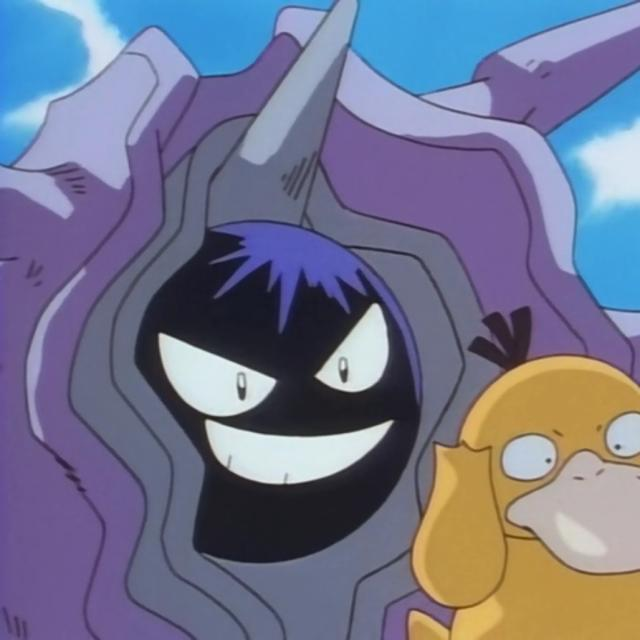Cloyster: (26, 48, 450, 640)
Psyduck: (429, 350, 640, 640)
